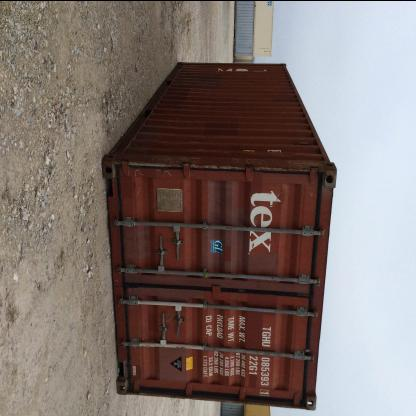Damage: (132, 160, 184, 186), (202, 113, 244, 142)
